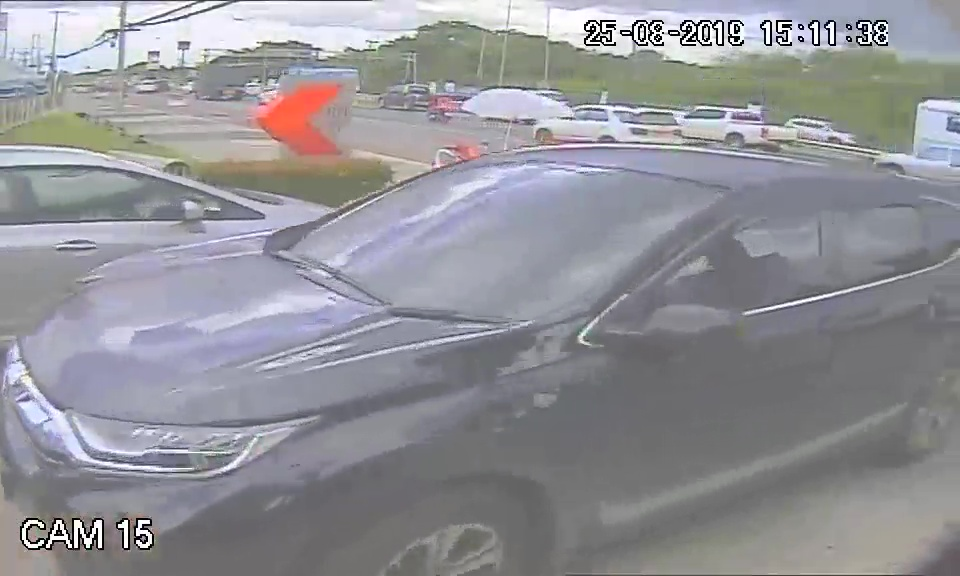pickup: (23, 142, 939, 549)
